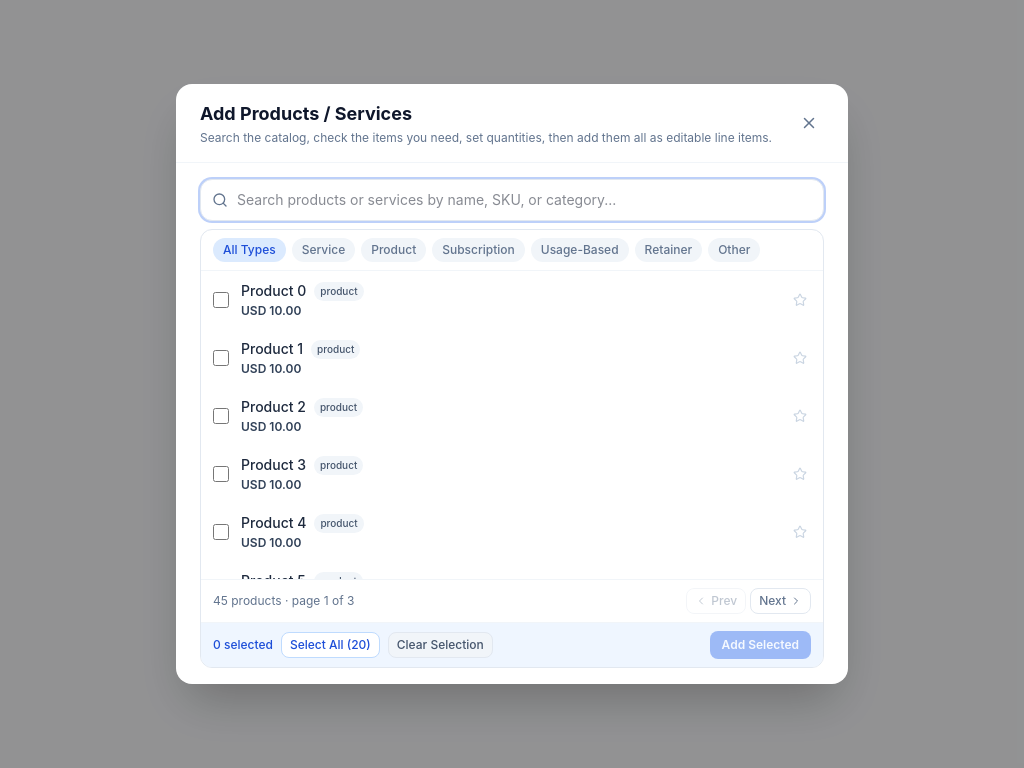
Test case: BUG-11 product picker controls › a later page that returns 0 results keeps Prev available
The width and height of the screenshot is (1024, 768).
expect the text "Product 0" is shown: met, box left=241, top=281, right=306, bottom=301
Click the button "Next".
click(781, 601)  # box left=750, top=588, right=811, bottom=614
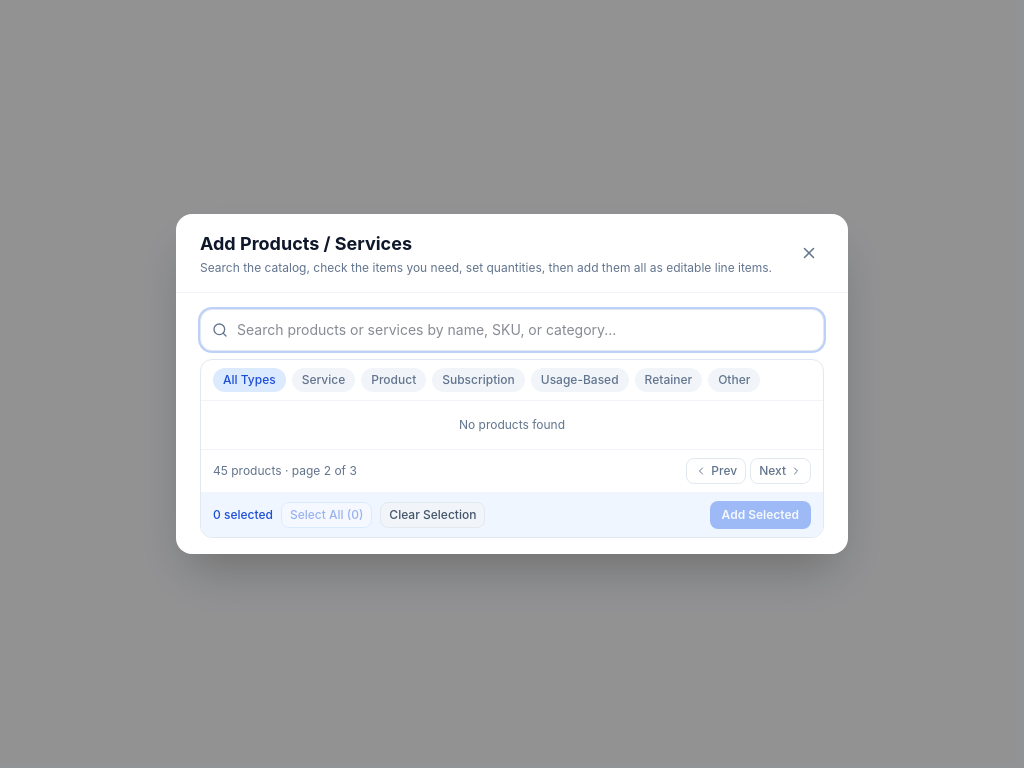
expect the text "No products found" is shown: met, box left=459, top=417, right=565, bottom=432
expect the button "Prev" is enabled: met
expect the text "45 products · page 2 of 3" is shown: met, box left=213, top=463, right=357, bottom=479
Click the button "Prev".
click(716, 471)  # box left=686, top=458, right=746, bottom=484
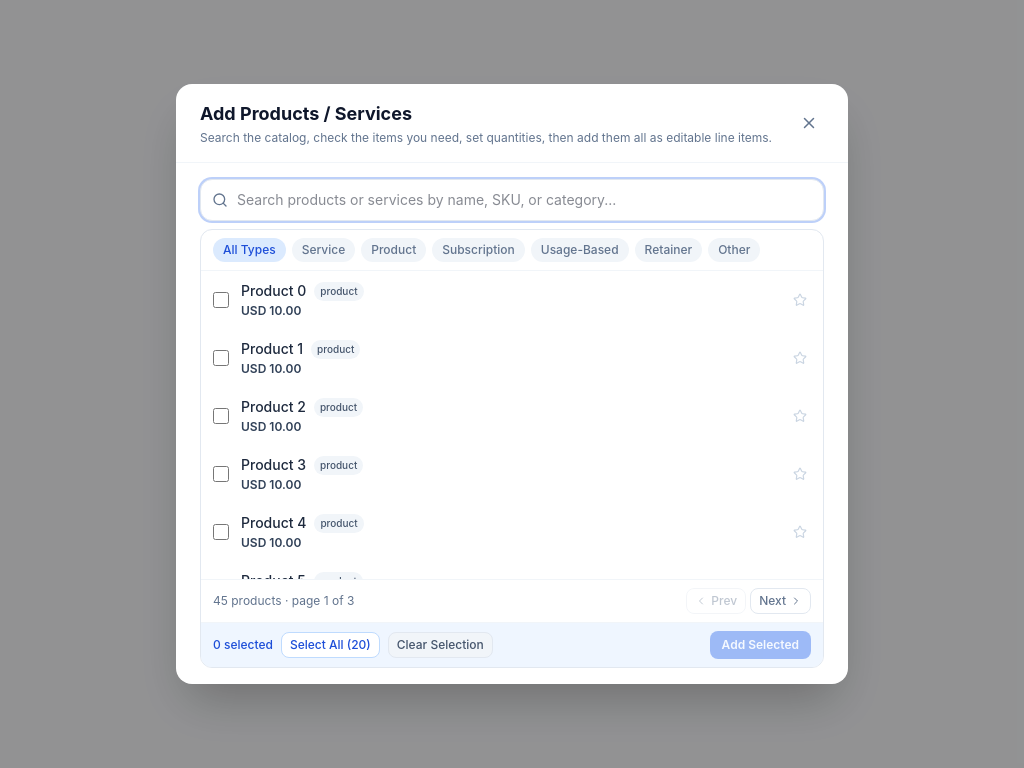
expect the text "Product 0" is shown: met, box left=241, top=281, right=306, bottom=301
